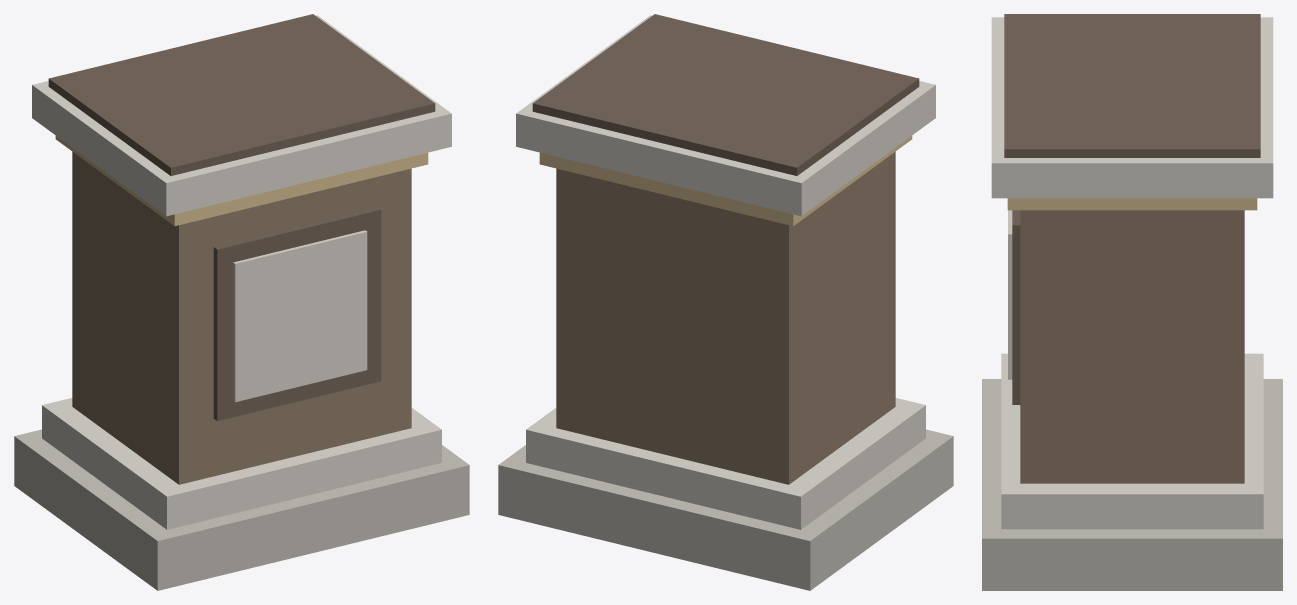
The model's file is pedestal.glb.
3 renders of one model, left to right at view 1: azimuth 30°, elevation 25°; view 2: azimuth 150°, elevation 25°; view 3: azimuth 270°, elevation 25°, orthographic. The views are drawn at different scales.
Parts seen in each view (by area): view 1: wood-body, top-surface, stone-foot, front-inner, stone-step, stone-top, front-inset, brass-band; view 2: wood-body, top-surface, stone-foot, stone-step, stone-top, brass-band; view 3: wood-body, top-surface, stone-foot, stone-step, stone-top, brass-band, front-inset, front-inner.
Boxes of the visible parts, x1=… form: wood-body: x1=72, y1=152, x2=411, y2=484; top-surface: x1=48, y1=14, x2=435, y2=175; stone-foot: x1=14, y1=429, x2=469, y2=590; front-inner: x1=233, y1=230, x2=367, y2=402; stone-step: x1=42, y1=398, x2=441, y2=529; stone-top: x1=32, y1=15, x2=451, y2=216; front-inset: x1=213, y1=207, x2=381, y2=420; brass-band: x1=55, y1=136, x2=428, y2=226; wood-body: x1=556, y1=152, x2=895, y2=484; top-surface: x1=532, y1=14, x2=919, y2=175; stone-foot: x1=498, y1=429, x2=953, y2=590; stone-step: x1=526, y1=398, x2=925, y2=529; stone-top: x1=516, y1=15, x2=935, y2=216; brass-band: x1=539, y1=136, x2=912, y2=226; wood-body: x1=1020, y1=210, x2=1244, y2=483; top-surface: x1=1004, y1=14, x2=1260, y2=157; stone-foot: x1=982, y1=379, x2=1282, y2=590; stone-step: x1=1001, y1=353, x2=1263, y2=529; stone-top: x1=991, y1=17, x2=1273, y2=198; brass-band: x1=1007, y1=198, x2=1257, y2=210; front-inset: x1=1012, y1=210, x2=1020, y2=404; front-inner: x1=1008, y1=210, x2=1012, y2=379.
Bounding box in the file's own units: 1.2 × 1.5 × 0.9527.
